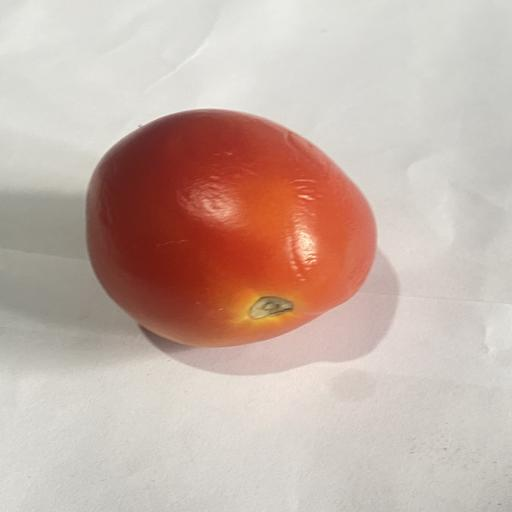spoiled: (86, 109, 377, 347)
